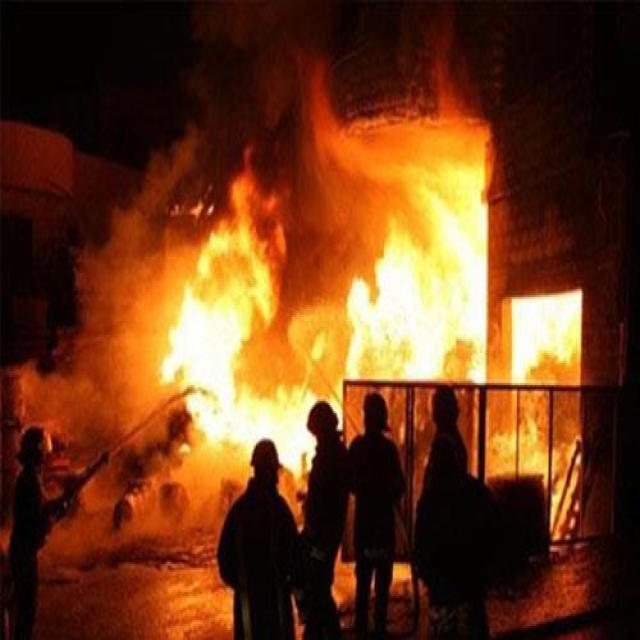fire: (145, 82, 508, 385), (500, 290, 590, 533), (180, 395, 344, 472)
person: (218, 437, 308, 639), (343, 391, 407, 640), (299, 399, 351, 640)
